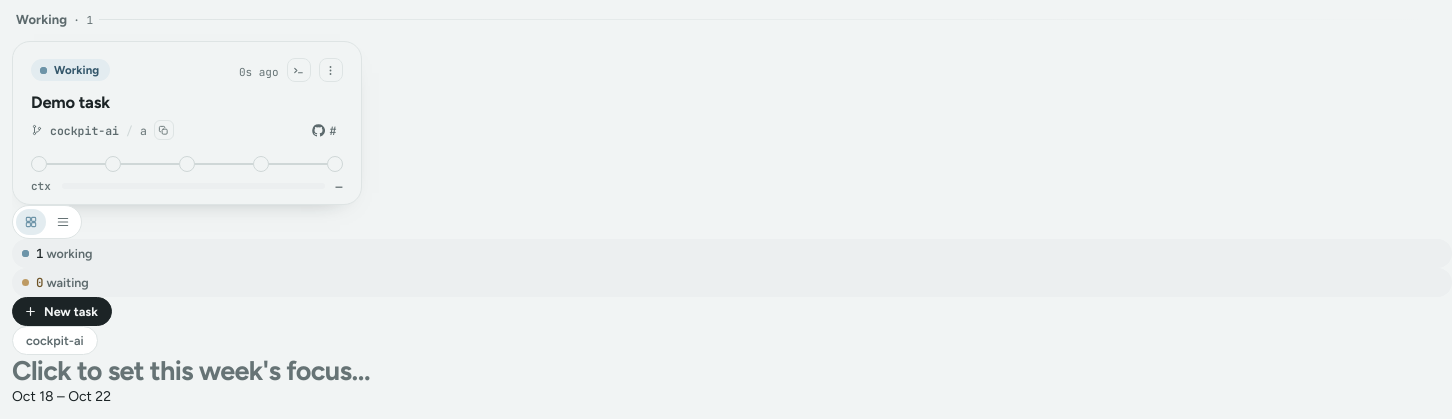
Test case: ActiveBoard: card/table switch › switching to the table swaps the cards for the lazy table, and back
Check: the number of elements with test id "task-card" is 1, box [12, 41, 362, 205]
Click the button with test id "active-view-table": coordinates (63, 222) [48, 209, 78, 235]
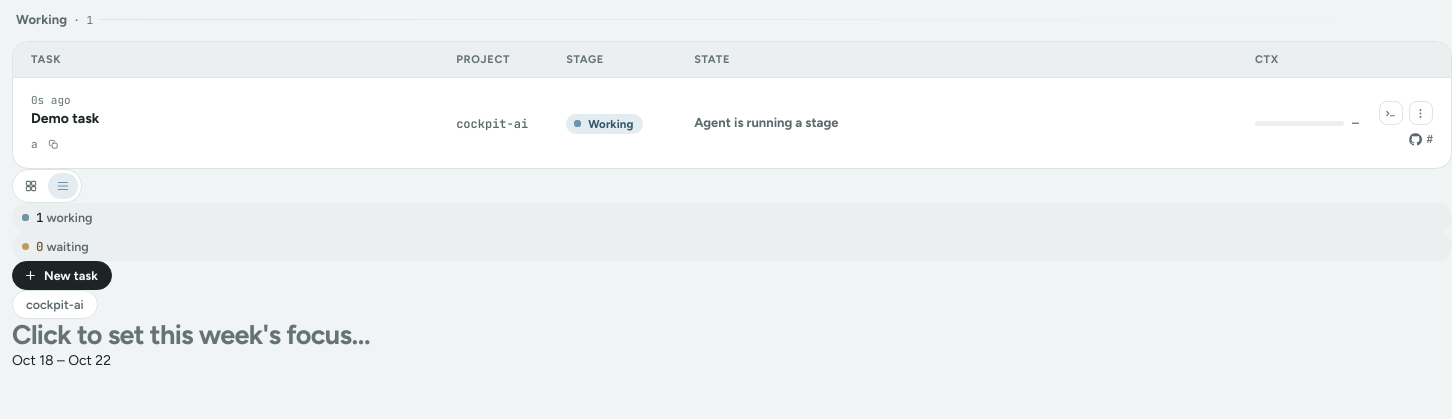
Check: the table with test id "active-table-working" is shown, box [13, 42, 1451, 168]
Check: no elements with test id "task-card" are shown
Click the button with test id "active-view-cards": coordinates (31, 186) [16, 173, 46, 199]
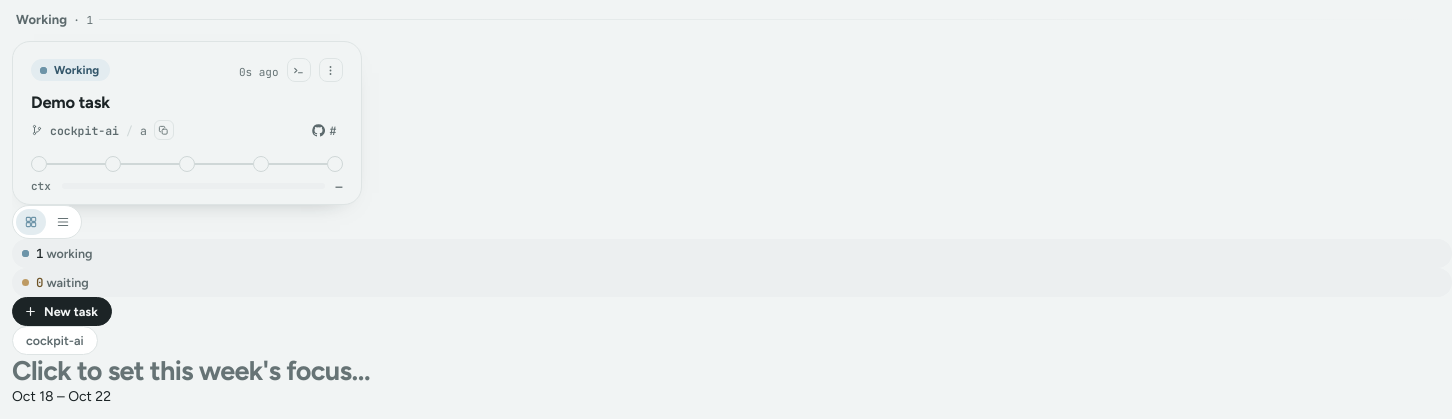
Check: the number of elements with test id "task-card" is 1, box [12, 41, 362, 205]
